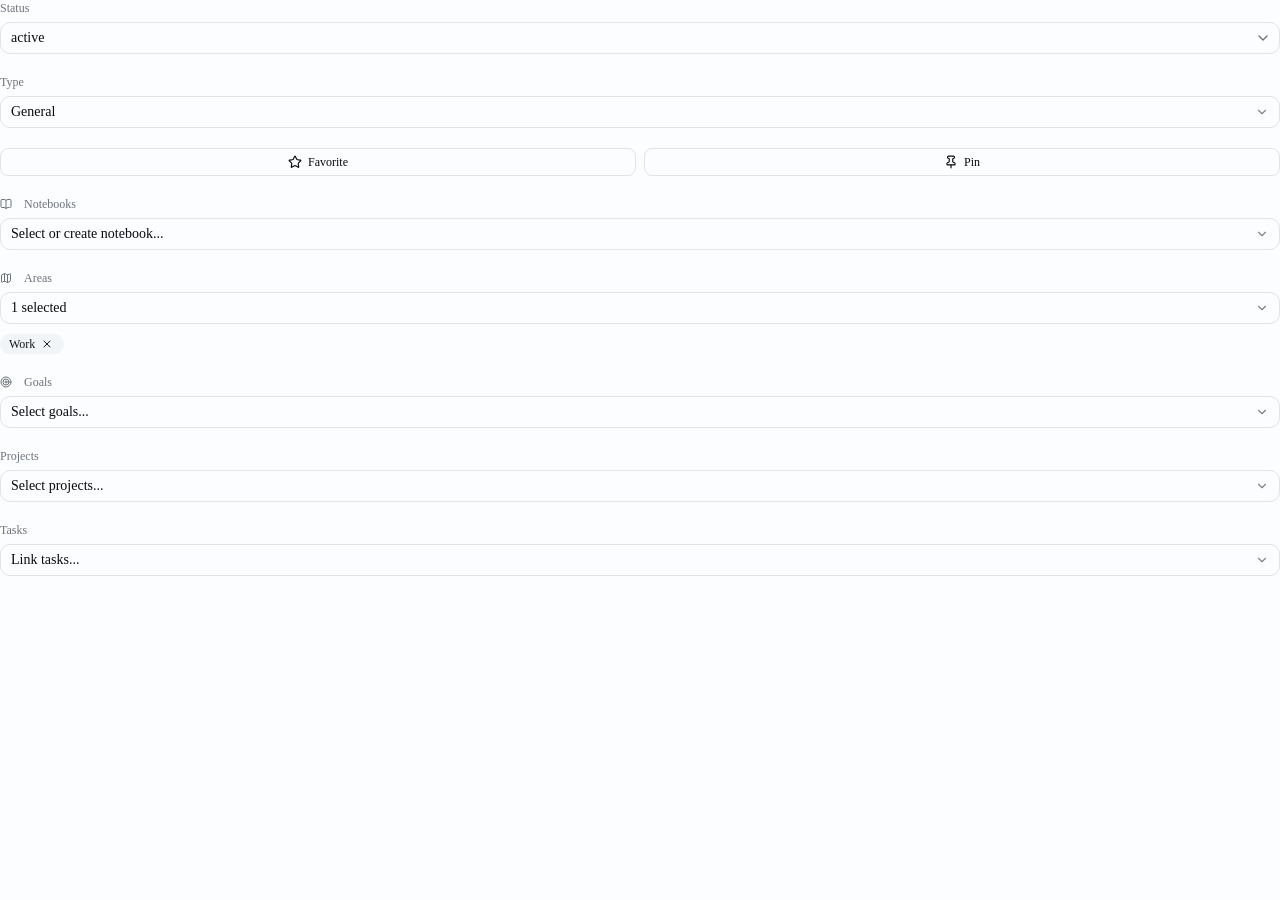
Test: NoteMetadataPanel: unassigned entities stay visible with area filter › with area filter active, unassigned project stays visible alongside area-scoped project
This screenshot has width=1280, height=900.
Click the dropdown labelled "Select projects..." at (57, 486), box [0,470,1279,502]
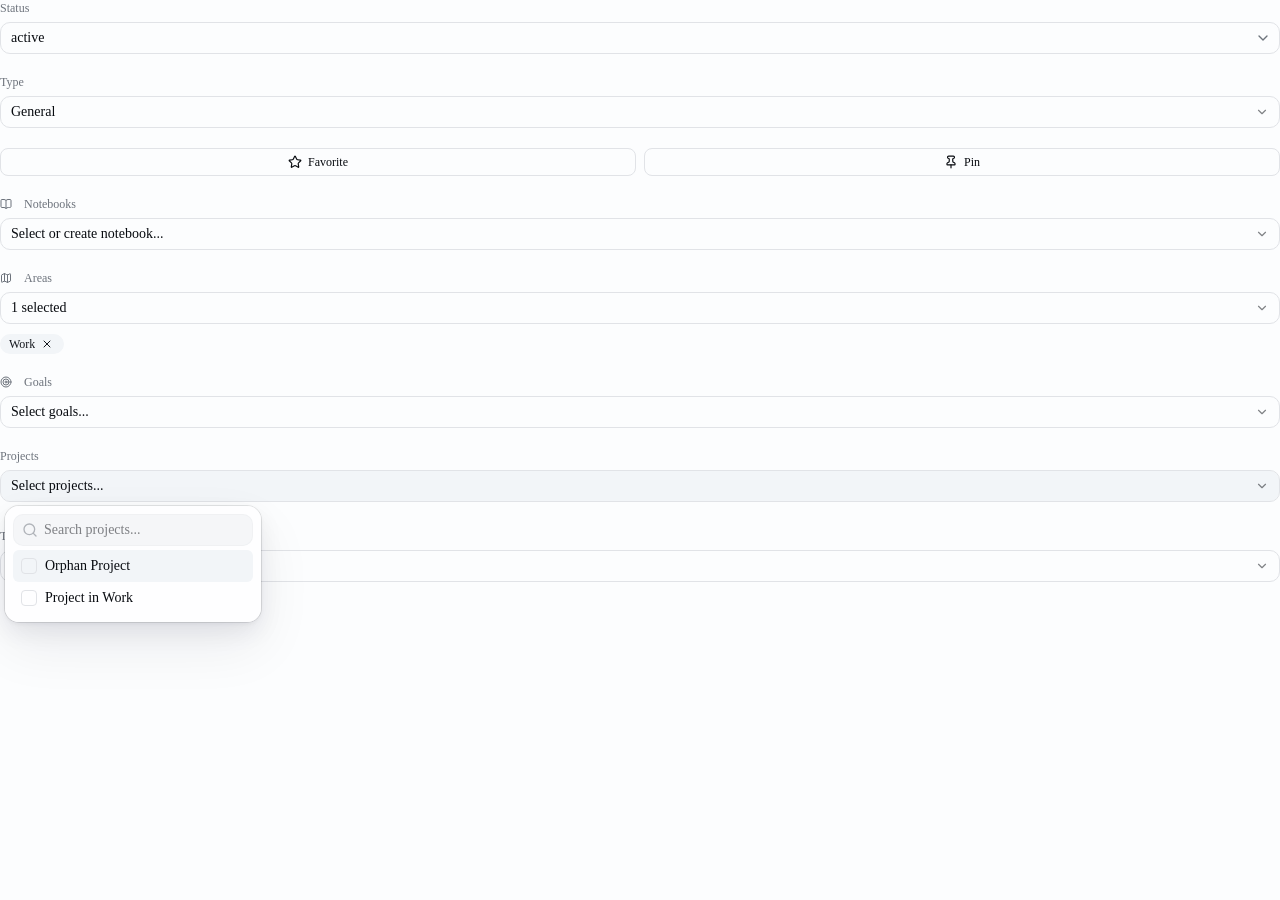
Result: the text "Project in Work" is shown at [45,590,133,605]
Result: the text "Orphan Project" is shown at [45,558,130,573]
